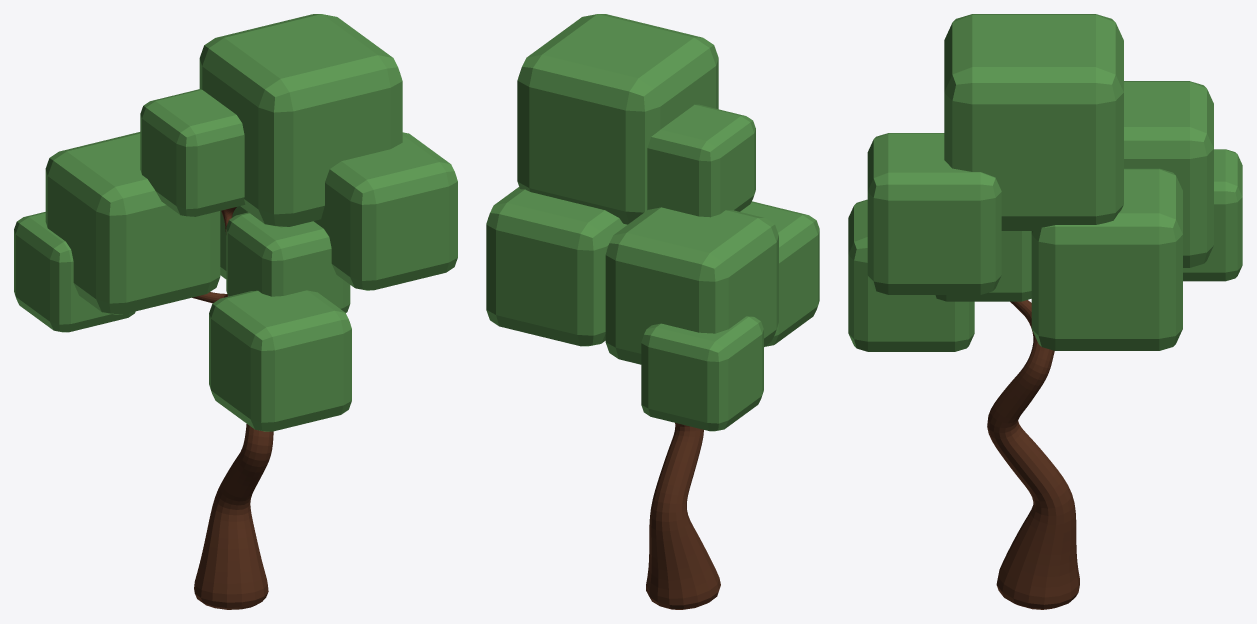
Rendered from arbolHojas2.fbx.
The picture shows the model from 3 angles, left to right: view 1: azimuth 30°, elevation 25°; view 2: azimuth 150°, elevation 25°; view 3: azimuth 270°, elevation 25°; orthographic projection. The views are drawn at different scales.
Visible parts, largest first — view 1: Cube.5546, Cube.5549, Cube.5545, Cube.5544, Cube.5547, Cube.5543, Cube.5548, Cube.5550; view 2: Cube.5546, Cube.5549, Cube.5551, Cube.5550, Cube.5547, Cube.5543, Cube.5545; view 3: Cube.5546, Cube.5551, Cube.5544, Cube.5543, Cube.5549, Cube.5545, Cube.5550, Cube.5548.
Boxes of the visible parts, x1=… form: Cube.5546: x1=199, y1=14, x2=402, y2=227; Cube.5549: x1=45, y1=132, x2=220, y2=314; Cube.5545: x1=209, y1=290, x2=351, y2=431; Cube.5544: x1=314, y1=132, x2=457, y2=290; Cube.5547: x1=140, y1=89, x2=245, y2=216; Cube.5543: x1=192, y1=207, x2=273, y2=609; Cube.5548: x1=226, y1=212, x2=350, y2=312; Cube.5550: x1=14, y1=212, x2=135, y2=332; Cube.5546: x1=517, y1=14, x2=718, y2=224; Cube.5549: x1=605, y1=207, x2=778, y2=364; Cube.5551: x1=486, y1=187, x2=627, y2=346; Cube.5550: x1=641, y1=316, x2=763, y2=431; Cube.5547: x1=647, y1=104, x2=755, y2=217; Cube.5543: x1=646, y1=423, x2=720, y2=609; Cube.5545: x1=740, y1=201, x2=819, y2=346; Cube.5546: x1=944, y1=14, x2=1123, y2=230; Cube.5551: x1=1031, y1=168, x2=1182, y2=350; Cube.5544: x1=867, y1=133, x2=1001, y2=294; Cube.5543: x1=987, y1=300, x2=1079, y2=609; Cube.5549: x1=1124, y1=81, x2=1213, y2=267; Cube.5545: x1=848, y1=199, x2=974, y2=351; Cube.5550: x1=1183, y1=149, x2=1242, y2=281; Cube.5548: x1=934, y1=231, x2=1031, y2=301.
Bounding box in the file's own units: 1982 × 3573 × 2147.
